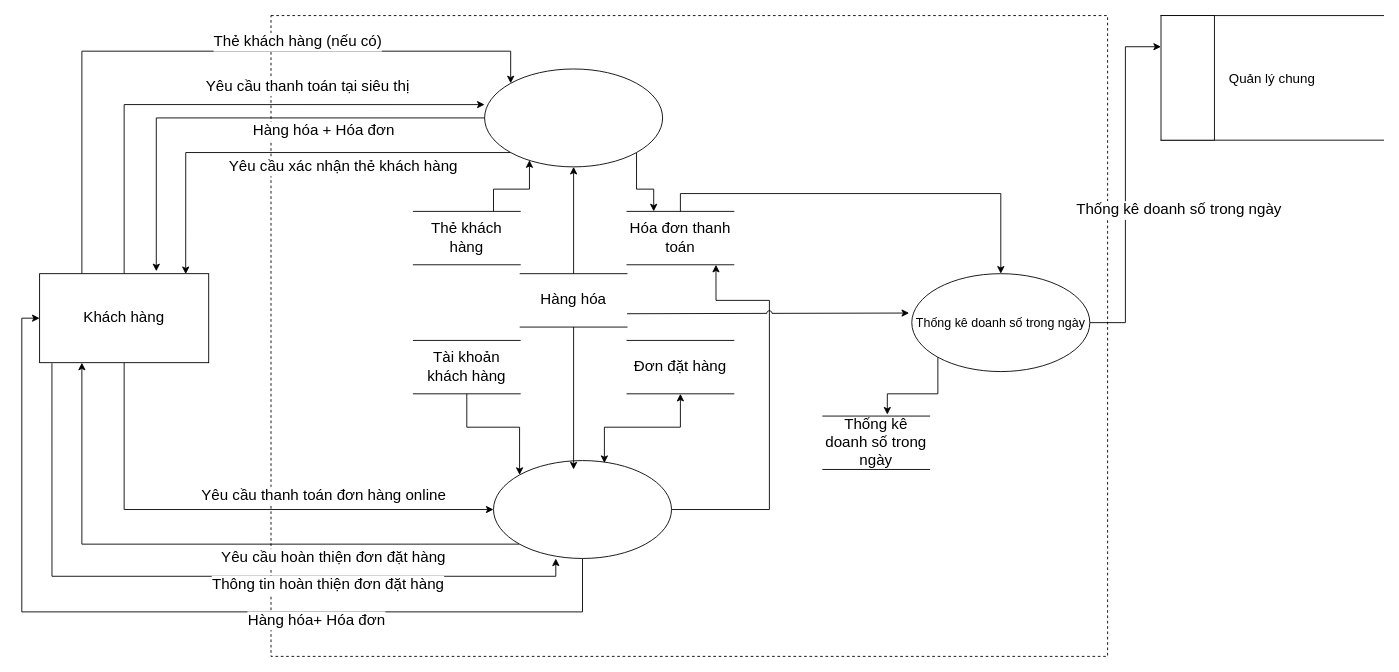
Image size: 1399x672. Some labels were removed from this diagram. Here are the shapes that lost their labels. From the top down, the box of each, then its label:
(484, 68, 663, 167): Thanh toán hóa đơn trực tiếp
(493, 460, 672, 558): Thanh toán hóa đơn online
